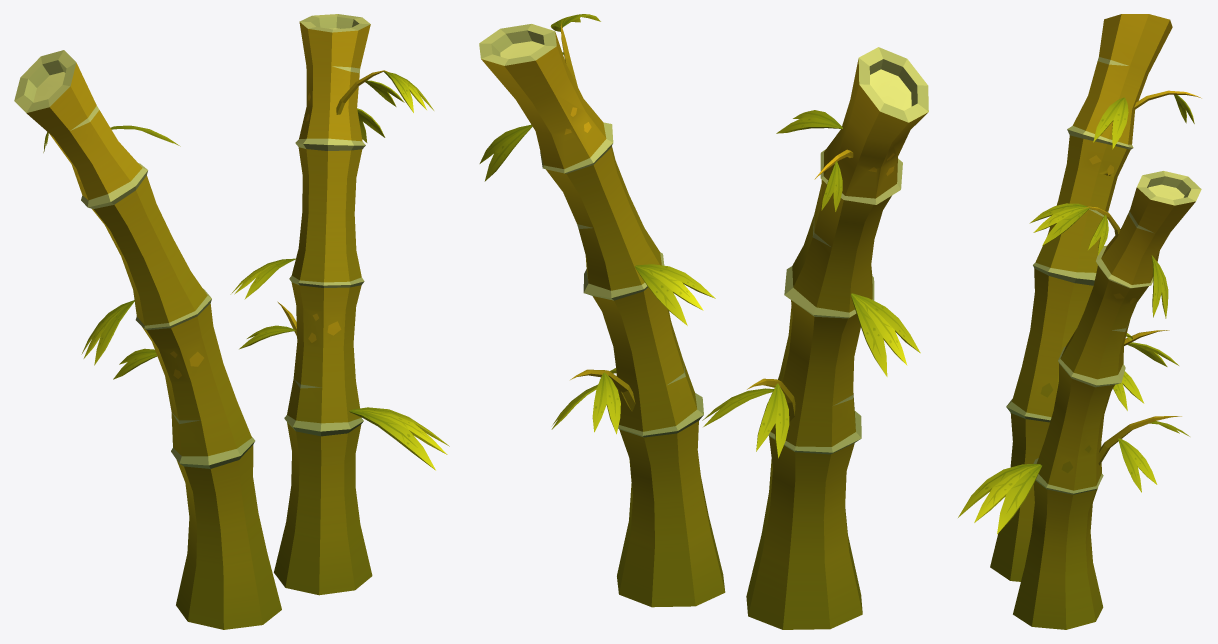
File: bamboo_7.glb
3 renders of one model, left to right at view 1: azimuth 30°, elevation 25°; view 2: azimuth 150°, elevation 25°; view 3: azimuth 270°, elevation 25°, orthographic. The views are drawn at different scales.
Visible parts, largest first — view 1: bamboo_7; view 2: bamboo_7; view 3: bamboo_7.
Boxes of the visible parts, box(x1,y1,x2,y2) form: bamboo_7: box(14, 14, 449, 629); bamboo_7: box(479, 14, 928, 629); bamboo_7: box(958, 14, 1201, 629).
Bounding box in the file's own units: 1.9 × 2.63 × 1.17.
1 material, 1 textured.
